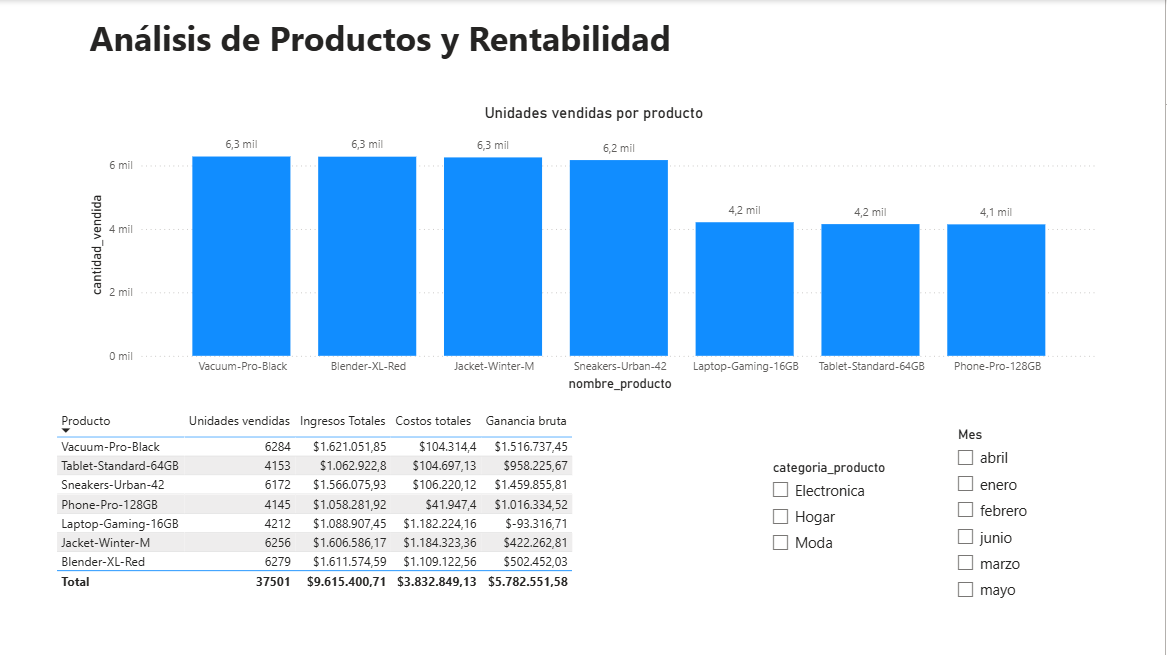

What the dashboard file says about the page in this screenshot:
{"tool":"powerbi","page":{"name":"Detalle y drill trhough","canvas":[1280,720],"ordinal":1},"visuals":[{"type":"tableEx","fields":{"Values":["orders_clean.nombre_producto","Sum(orders_clean.cantidad)","orders_clean.Revenue","Sum(orders_clean.costo_total)","orders_clean.ganancia_bruta"]},"box":[55.6,446.1,729.8,263.7],"z":0},{"type":"columnChart","title":"Unidades vendidas por producto","fields":{"Y":["orders_clean.cantidad_vendida"],"Category":["orders_clean.nombre_producto"]},"box":[92.7,114,1117.5,320.7],"z":1000},{"type":"slicer","fields":{"Values":["orders_clean.categoria_producto"]},"box":[835.3,498.9,171,158.2],"z":2000},{"type":"slicer","fields":{"Values":["Dim_Fecha.Mes"]},"box":[1039.1,463.3,186.7,230.9],"z":3000},{"type":"textbox","box":[92.7,11.4,956.4,92.7],"z":4000}]}

Visuals, with their boxes in screenshot pixels (x1, y1, x2, y2), scaled from the page's 1280x720 canvas onto the 1167x655 screenshot:
tableEx - orders_clean.nombre_producto x Sum(orders_clean.cantidad): 51 406 716 646
"Unidades vendidas por producto" columnChart: 85 104 1103 395
slicer - orders_clean.categoria_producto: 762 454 917 598
slicer - Dim_Fecha.Mes: 947 421 1118 632
textbox: 85 10 956 95
